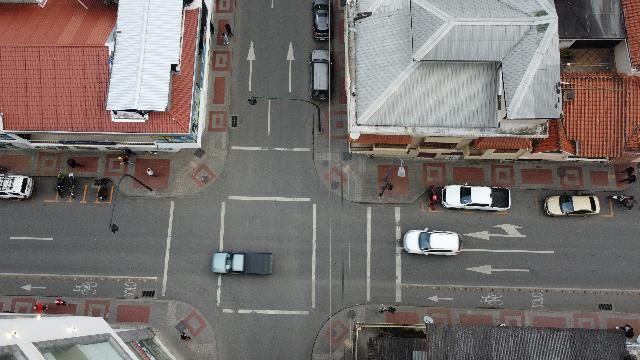Vehiculo: (442, 185, 511, 212), (403, 229, 463, 256), (211, 252, 272, 275), (544, 195, 600, 217), (310, 49, 330, 100), (0, 175, 34, 199), (312, 0, 332, 40)
